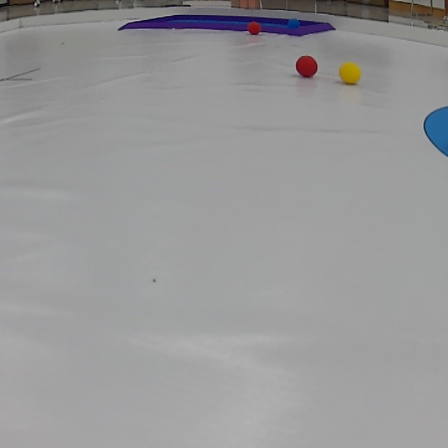blue: (287, 17, 302, 28)
blue_aim: (111, 15, 345, 39)
blue_base: (417, 107, 448, 159)
red: (296, 54, 320, 79), (248, 22, 262, 35)
yellow: (340, 60, 362, 85)
